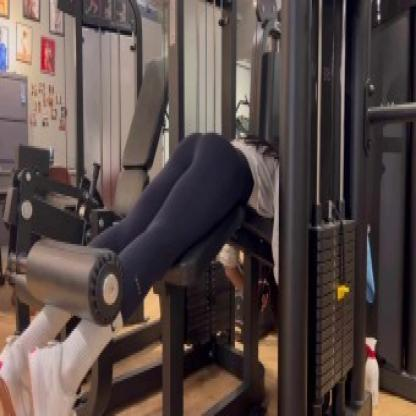reg curl machine: (0, 0, 283, 416)
